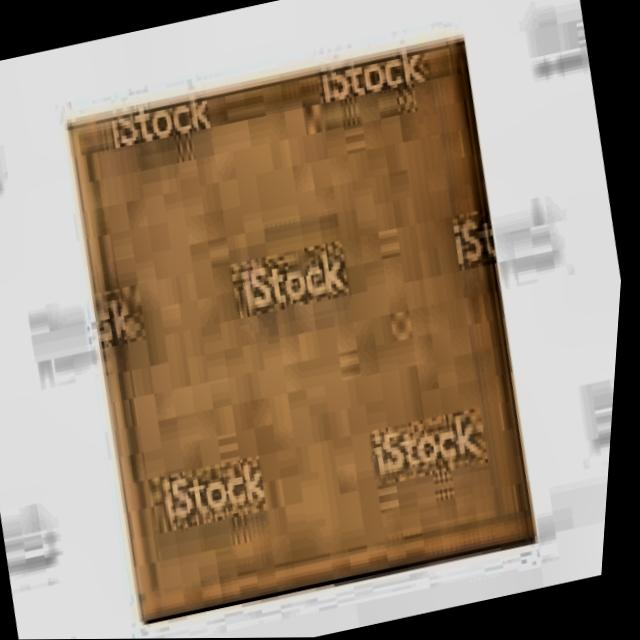Cardbox: (23, 4, 597, 640)
